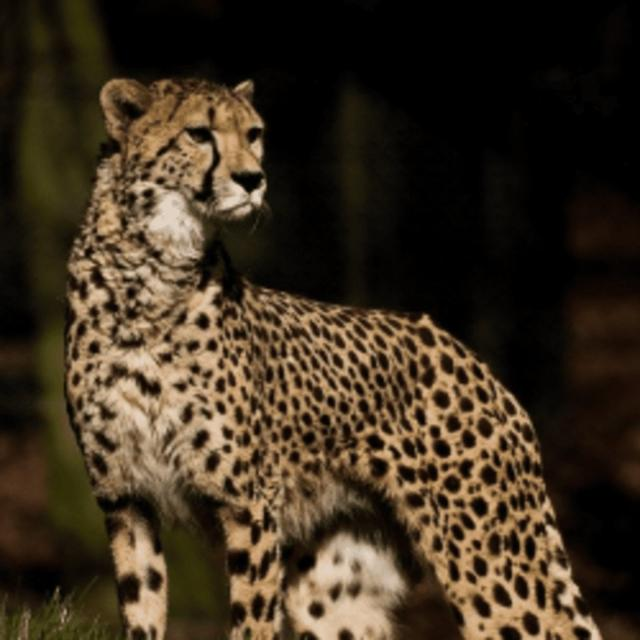Jaguar: (40, 77, 535, 640)
